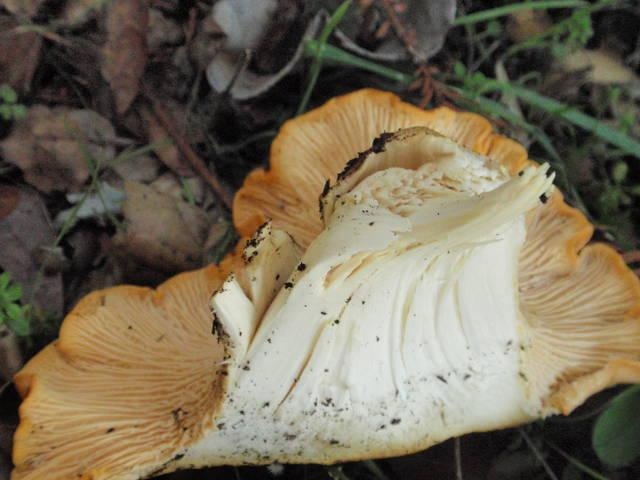edible_mushroom: (8, 87, 638, 478)
